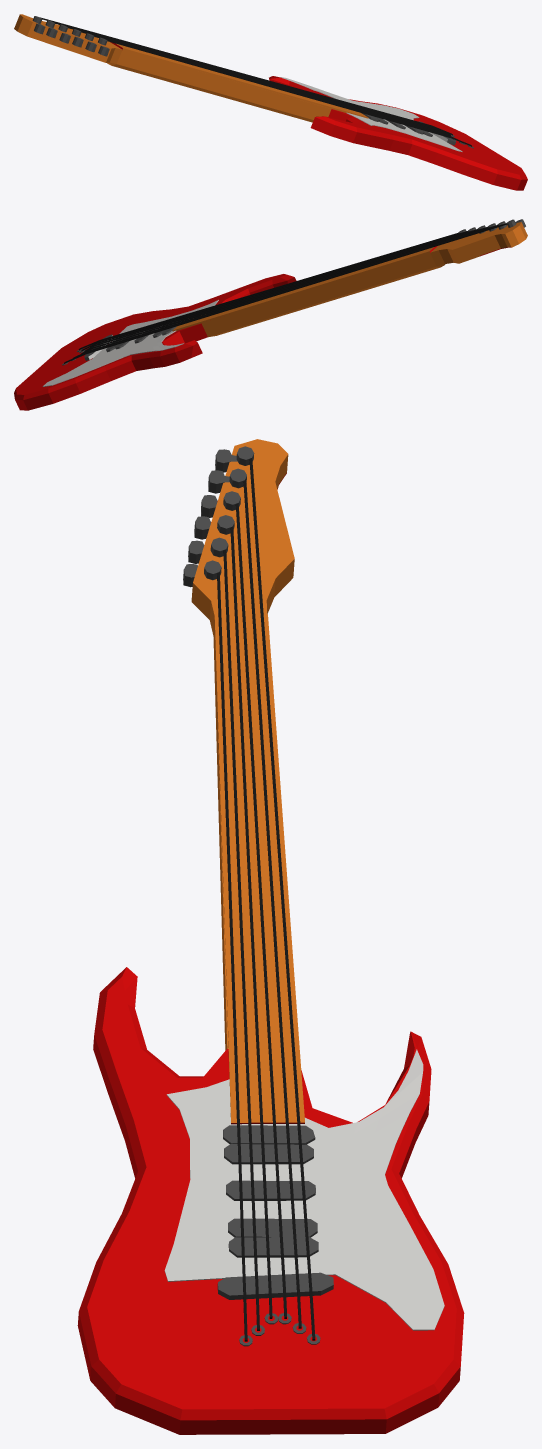
File: Guitar.obj
The picture shows the model from 3 angles, top to bottom: view 1: azimuth 30°, elevation 25°; view 2: azimuth 150°, elevation 25°; view 3: azimuth 270°, elevation 25°; orthographic projection. The views are drawn at different scales.
Parts seen in each view (by area): view 1: Base_Chotarra_Plane.025; view 2: Base_Chotarra_Plane.025; view 3: Base_Chotarra_Plane.025.
Part boxes in pixels (box(x1,y1,x2,y2)): Base_Chotarra_Plane.025: box(14, 14, 527, 190); Base_Chotarra_Plane.025: box(14, 219, 527, 410); Base_Chotarra_Plane.025: box(77, 439, 464, 1434).
Bounding box in the file's own units: 2.86 × 1.52 × 0.989.
